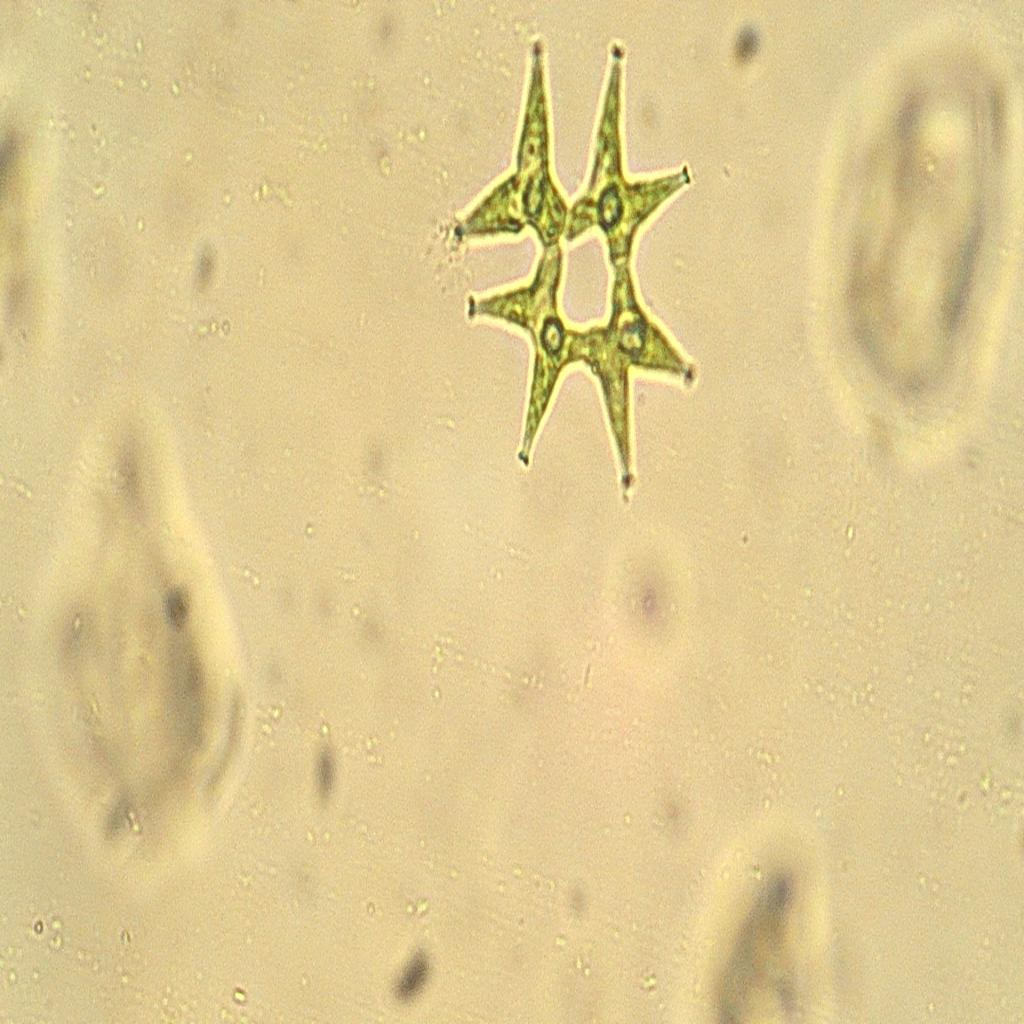Pediastrum_CT: (439, 29, 710, 505)
